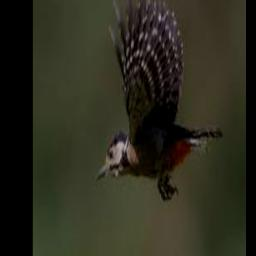Woodpecker: (93, 0, 222, 198)
